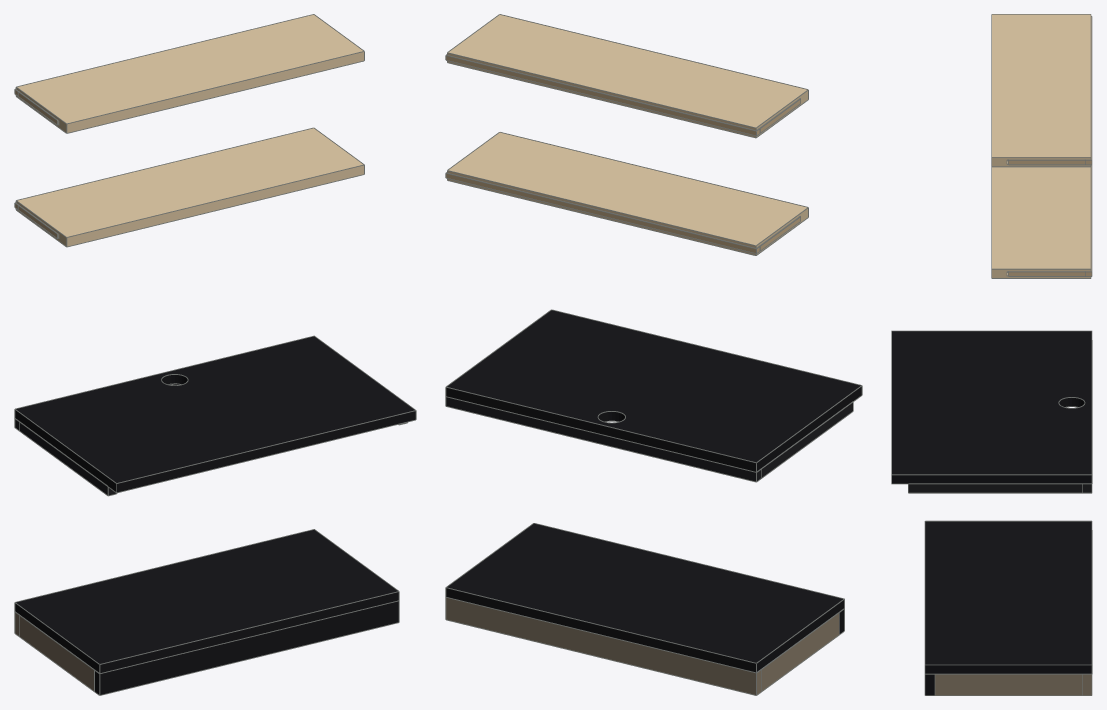
The model's file is modell.glb.
3 views of the same model, side by side, from view 1: azimuth 30°, elevation 25°; view 2: azimuth 150°, elevation 25°; view 3: azimuth 270°, elevation 25° (orthographic). The views are drawn at different scales.
Size of the model in its own units: 1024 by 1783 by 603.
